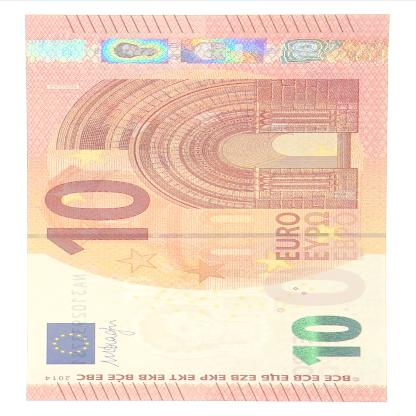euro_banknote: (15, 25, 404, 392)
